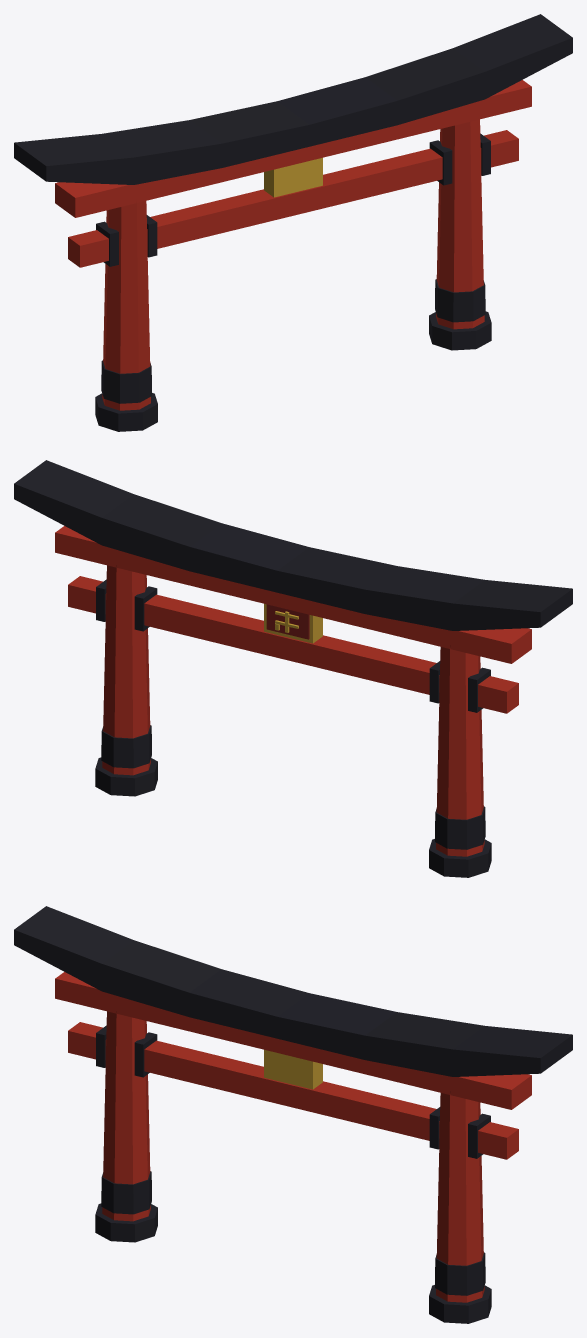
The model's file is Decor_SamuraiShrine_Torii.fbx.
The picture shows the model from 3 angles, top to bottom: view 1: azimuth 30°, elevation 25°; view 2: azimuth 150°, elevation 25°; view 3: azimuth 330°, elevation 25°; orthographic projection.
Parts seen in each view (by area): view 1: Torii_Body; view 2: Torii_Body; view 3: Torii_Body.
Boxes of the visible parts, <box> form: Torii_Body: <box>14,14,572,431</box>; Torii_Body: <box>14,460,572,877</box>; Torii_Body: <box>14,906,572,1323</box>.
Bounding box in the file's own units: 30.15 × 15.75 × 3.2.
